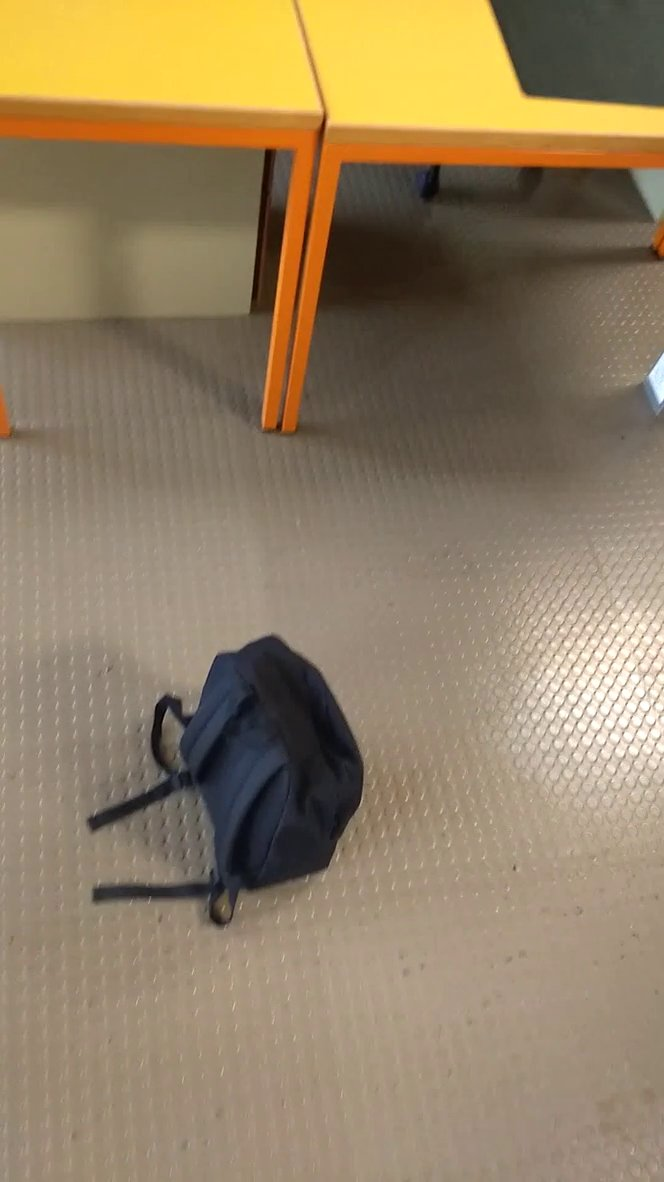bag: (81, 624, 370, 931)
